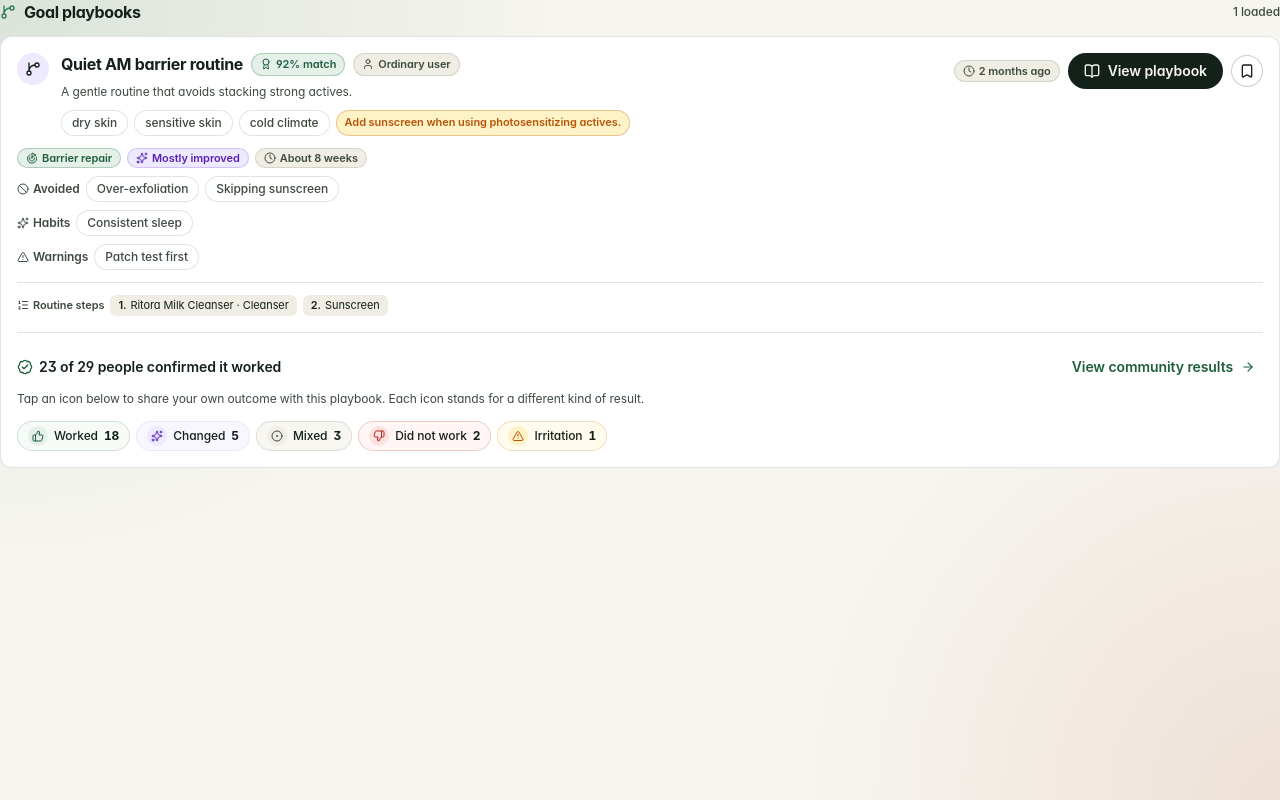
Test: Community lists pagination › opens playbook details in a side panel instead of navigating away
Click the button "View playbook" at (1145, 71), box [1068, 53, 1223, 89]
(page scrolled)
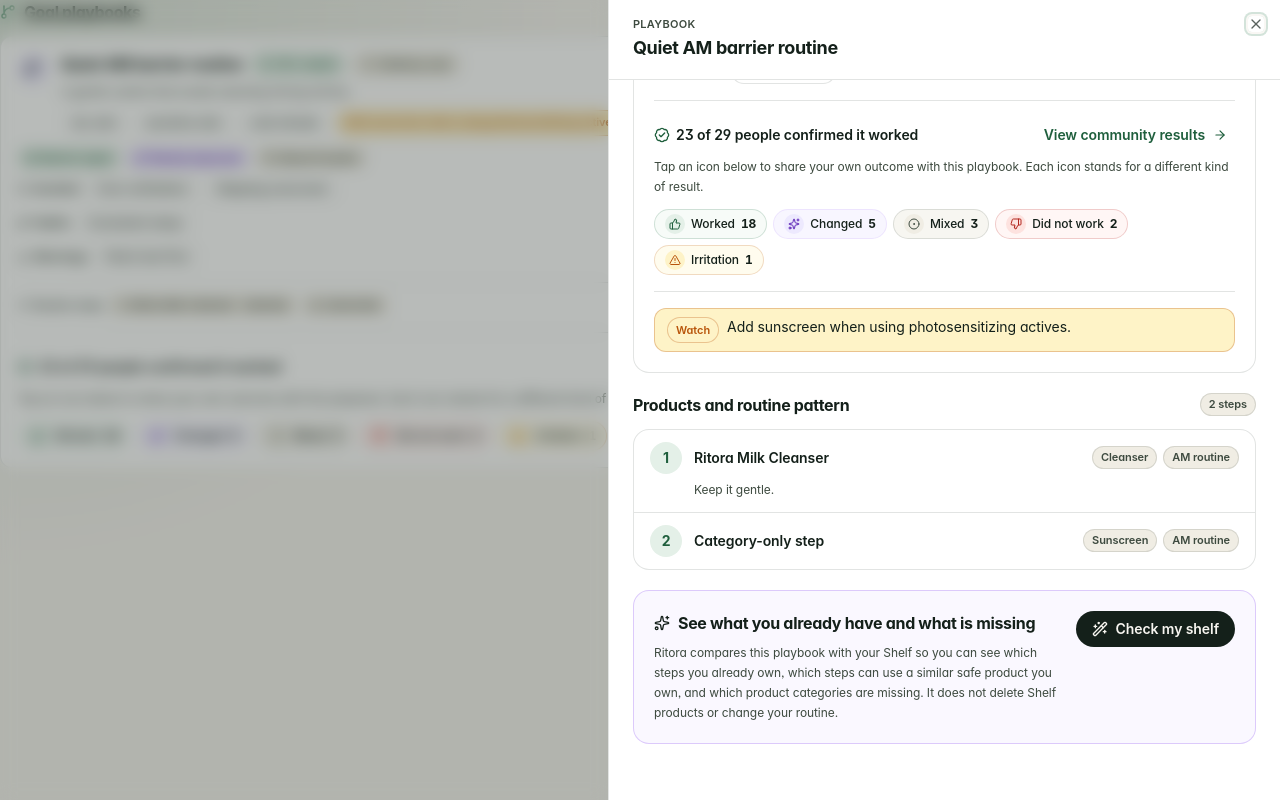
Result: the text "Playbook" is shown at [633, 17, 695, 31]
Result: the heading "Quiet AM barrier routine" is shown at [633, 36, 838, 58]
Result: the heading "Products and routine pattern" is shown at [633, 393, 849, 417]
